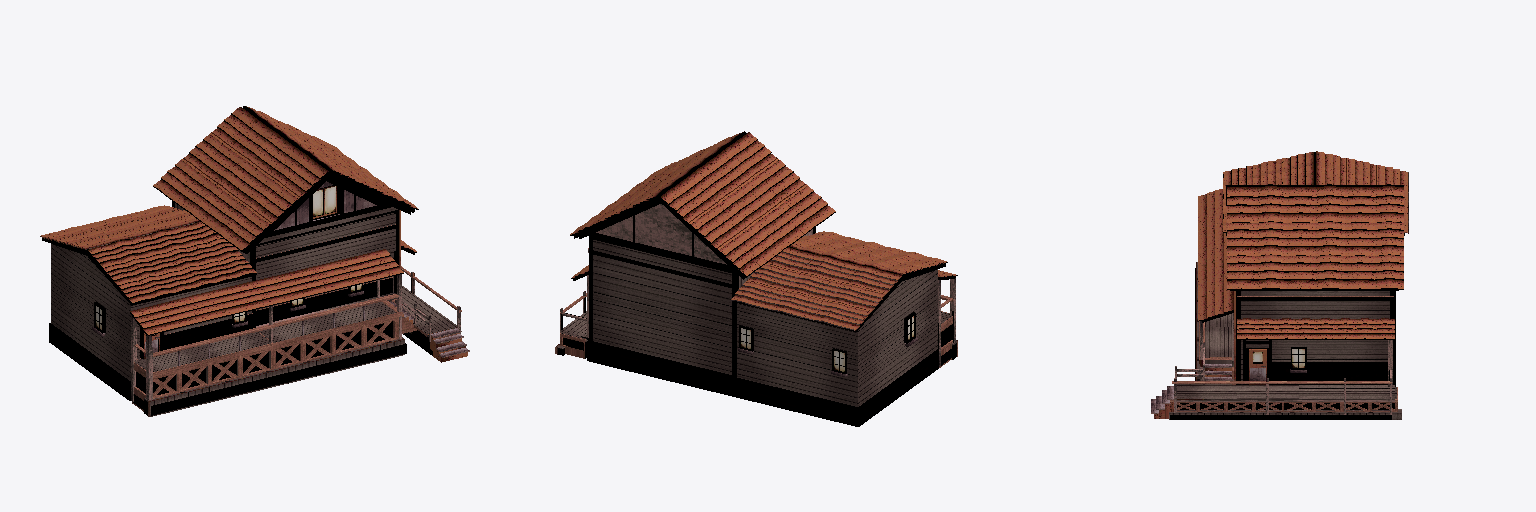
The picture shows the model from 3 angles: view 1: azimuth 30°, elevation 25°; view 2: azimuth 150°, elevation 25°; view 3: azimuth 270°, elevation 25°; orthographic projection.
Visible parts, largest first — view 1: Cube.027; view 2: Cube.027; view 3: Cube.027.
Boxes of the visible parts, x1=… form: Cube.027: x1=40, y1=106, x2=469, y2=416; Cube.027: x1=555, y1=131, x2=957, y2=426; Cube.027: x1=1151, y1=151, x2=1408, y2=419.
Size of the model in its own units: 2.47 by 1.47 by 1.81.
1 materials, 1 textured.